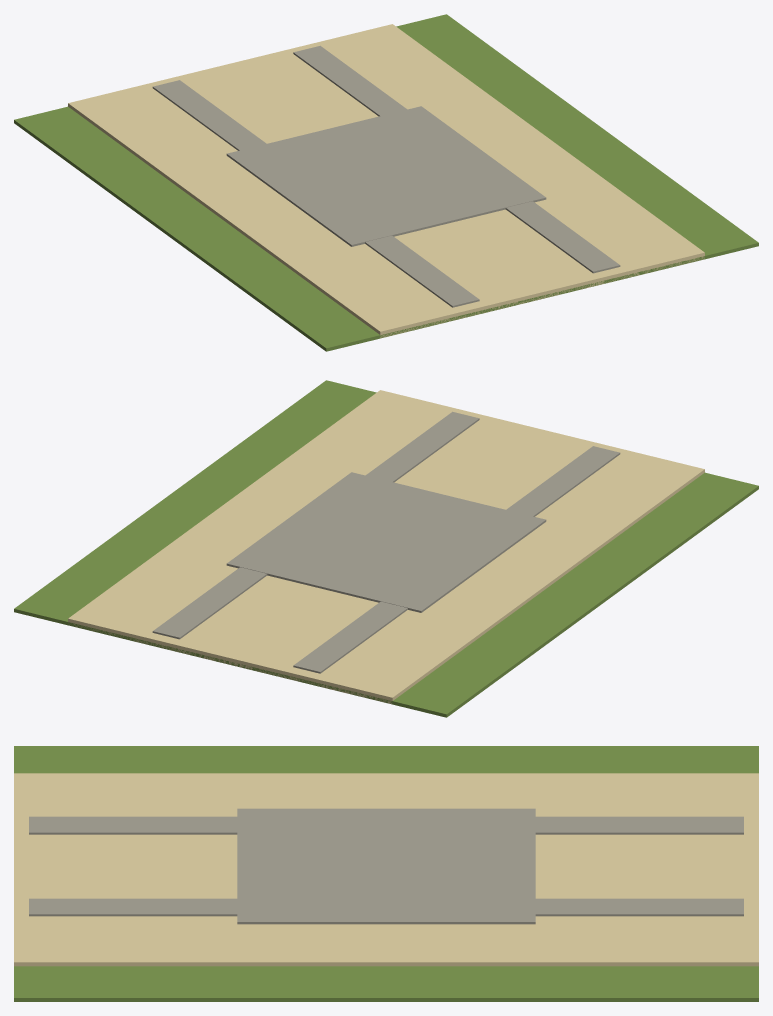
Rendered from road.dirt-road.glb.
The picture shows the model from 3 angles, top to bottom: view 1: azimuth 30°, elevation 25°; view 2: azimuth 150°, elevation 25°; view 3: azimuth 270°, elevation 25°; orthographic projection. The views are drawn at different scales.
Visible parts, largest first — view 1: road.dirt-road; view 2: road.dirt-road; view 3: road.dirt-road.
Boxes of the visible parts, x1,y1,x2,y2 form: road.dirt-road: (14,14,758,351); road.dirt-road: (14,380,758,717); road.dirt-road: (14,746,758,1001).
Bounding box in the file's own units: 8 × 0.16 × 10.
